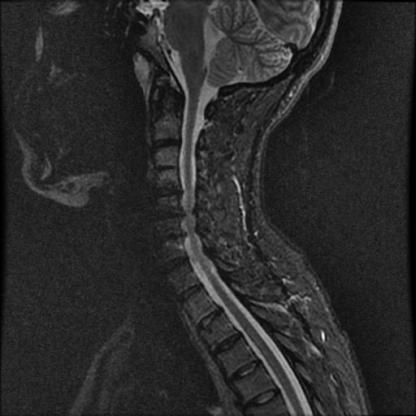Disc Protrusionrotation: (154, 207, 186, 229), (152, 183, 182, 203), (155, 164, 179, 173)
Osteophytesrotation: (155, 208, 186, 229), (152, 183, 182, 203), (155, 164, 179, 173)
